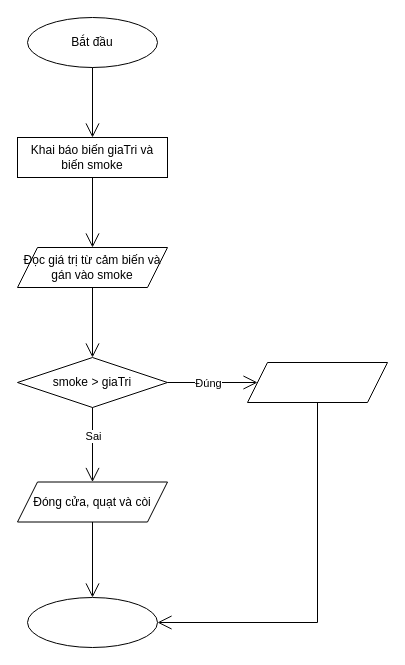
This 405x665 diagram has some shape labels left out. Each missing label, with the centre of its shape:
"Kết thúc" belongs at pixel 92 622.
"Mở cửa, quạt và còi" belongs at pixel 317 382.
